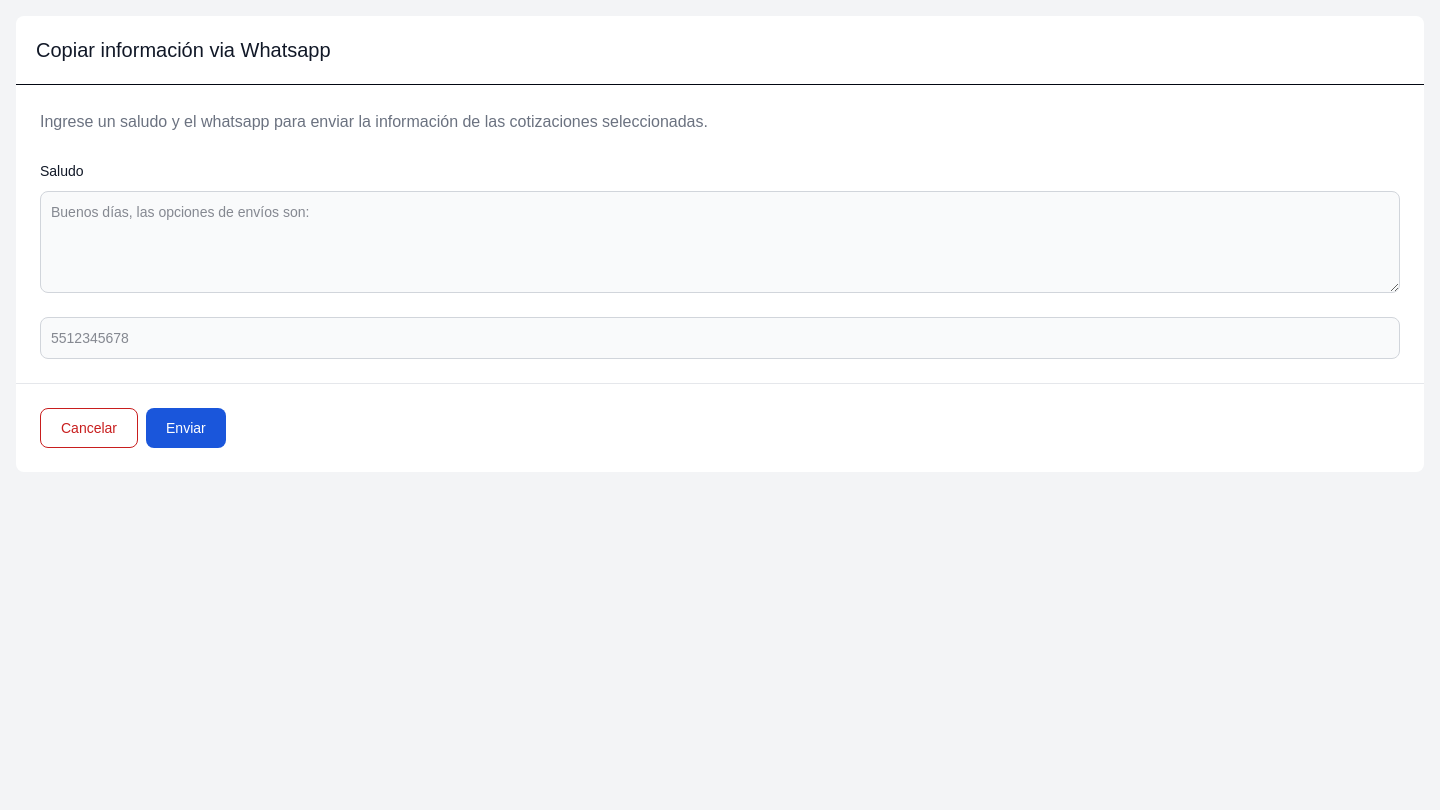
Test: CopyInfoQuotesModal › Form validation errors › Given a user filling the form with invalid data, then show error
This screenshot has width=1440, height=810.
Click the button "Enviar". click: (186, 428)
box: [146,408,226,448]
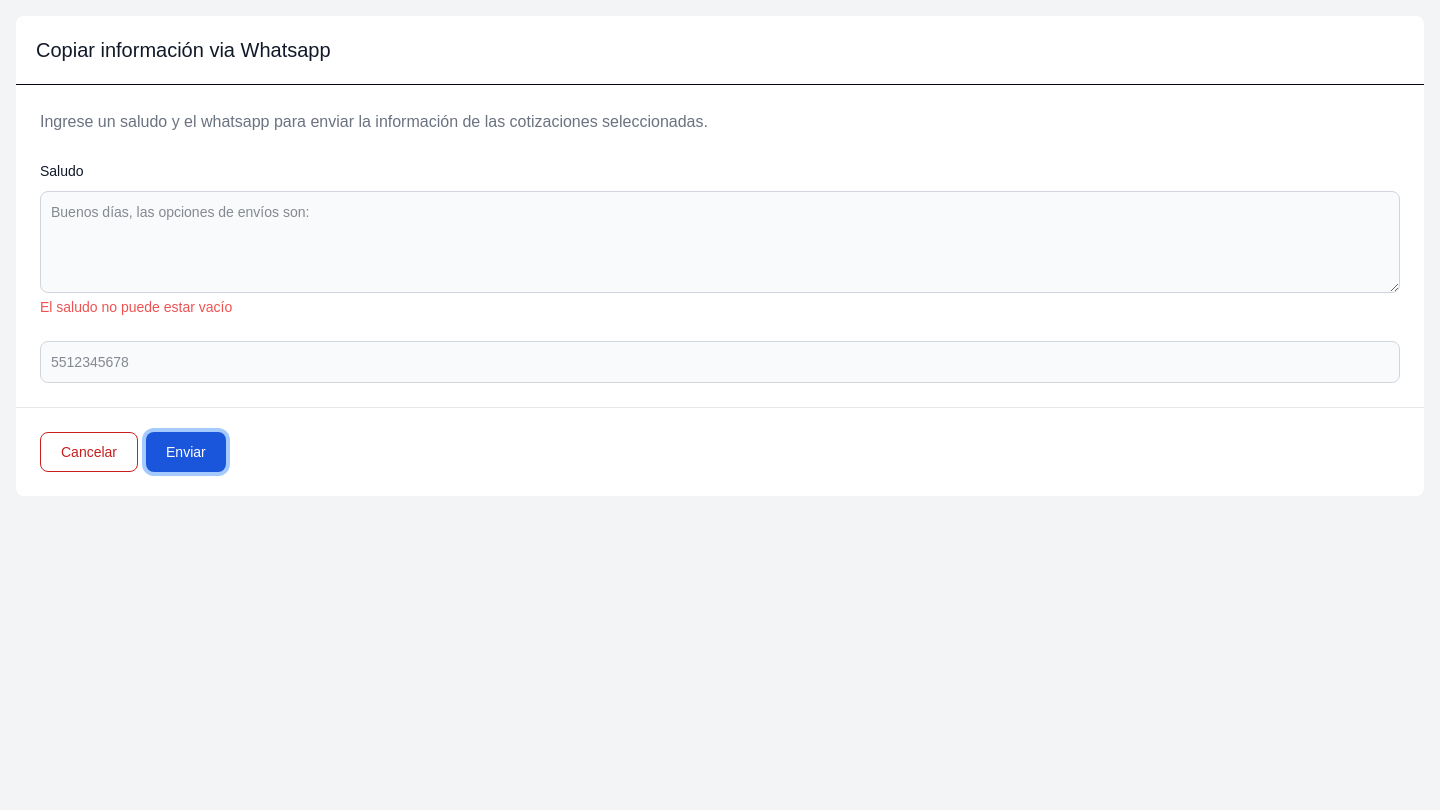
expect the text "El saludo no puede estar vacío" is shown: met, box [40,299,232,315]
// Validate number with less than 10 digits
Type "Hola" into the text box with test id "intro-input". click: (720, 242)
box: [40,191,1400,293]
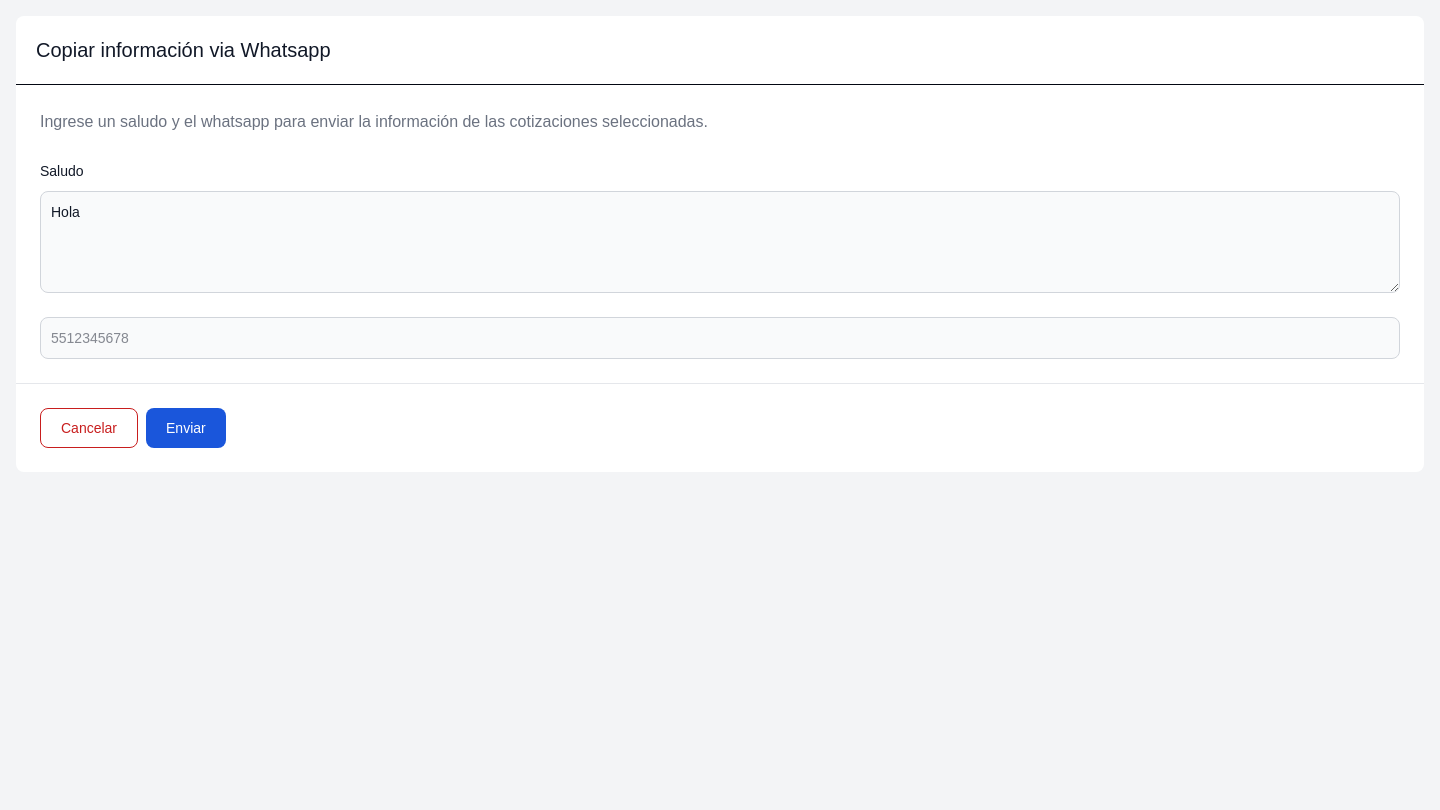
Type "123456789" into the number field with test id "phone-input". click: (720, 338)
box: [40,317,1400,359]
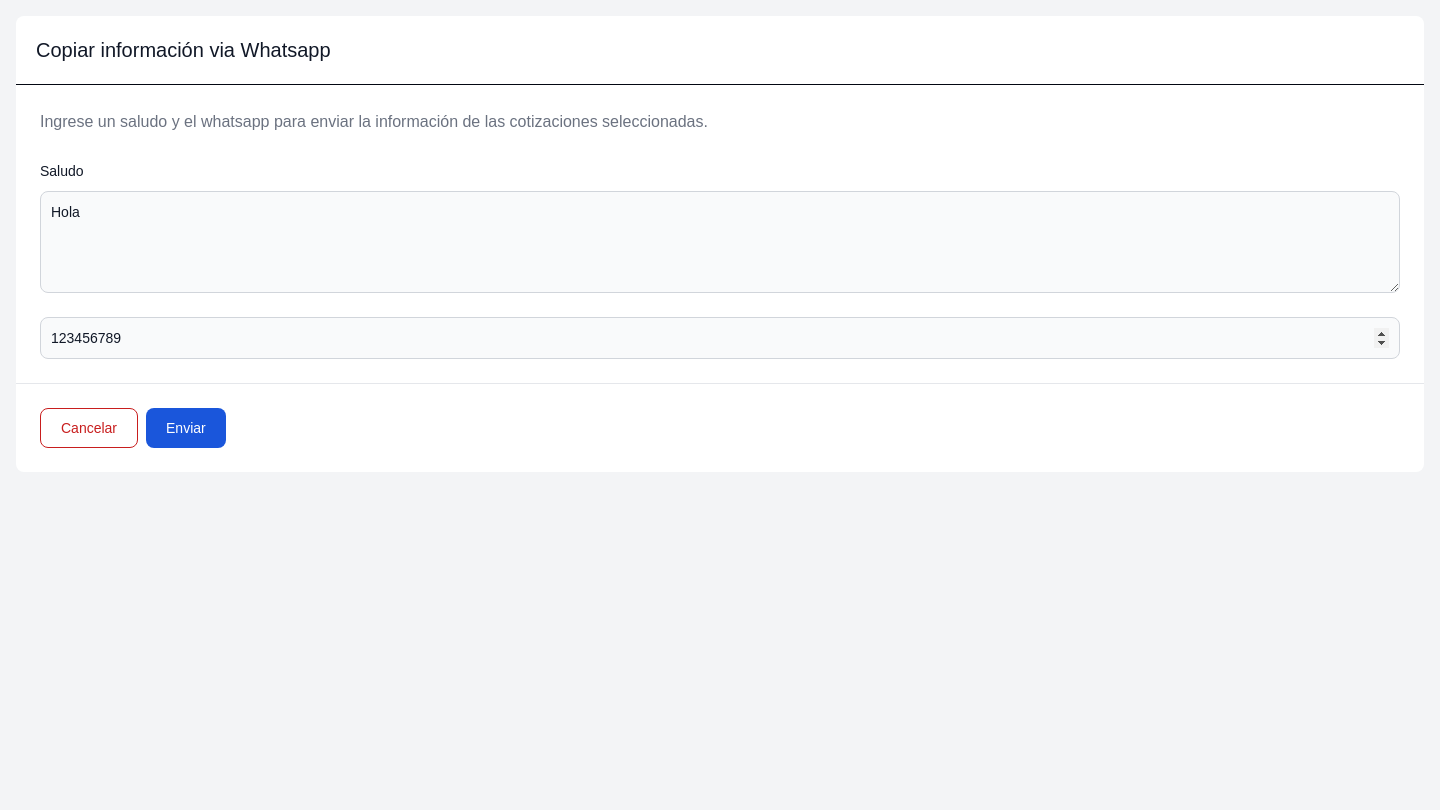
Click the button "Enviar". click: (186, 428)
box: [146,408,226,448]
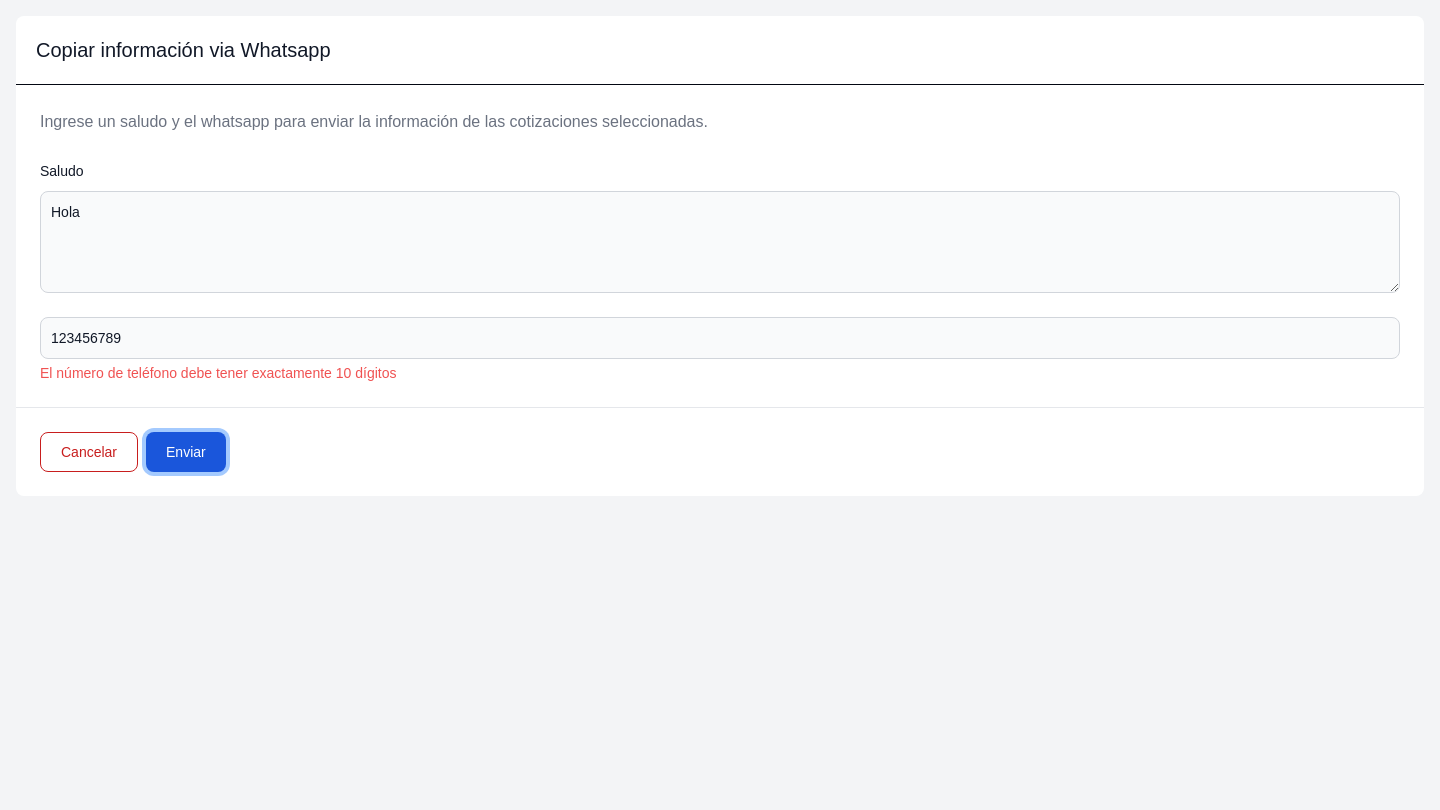
expect the text "El número de teléfono debe tener exactamente 10 dígitos" is shown: met, box [40,365,396,381]
// Validate number with more than 10 digits
Replace the text in the number field with test id "phone-input" with "12345678901". click: (720, 338)
box: [40,317,1400,359]
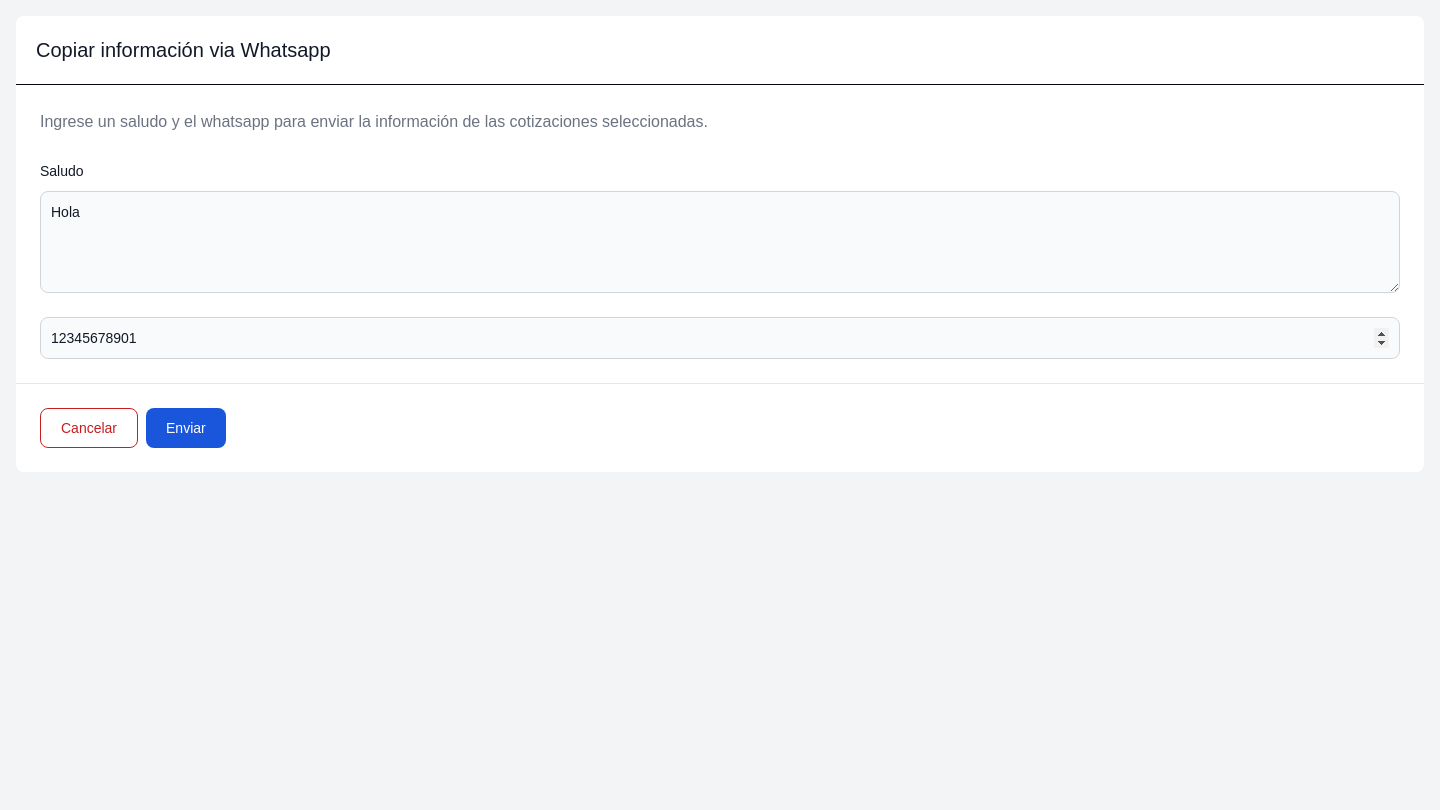
Click the button "Enviar". click: (186, 428)
box: [146,408,226,448]
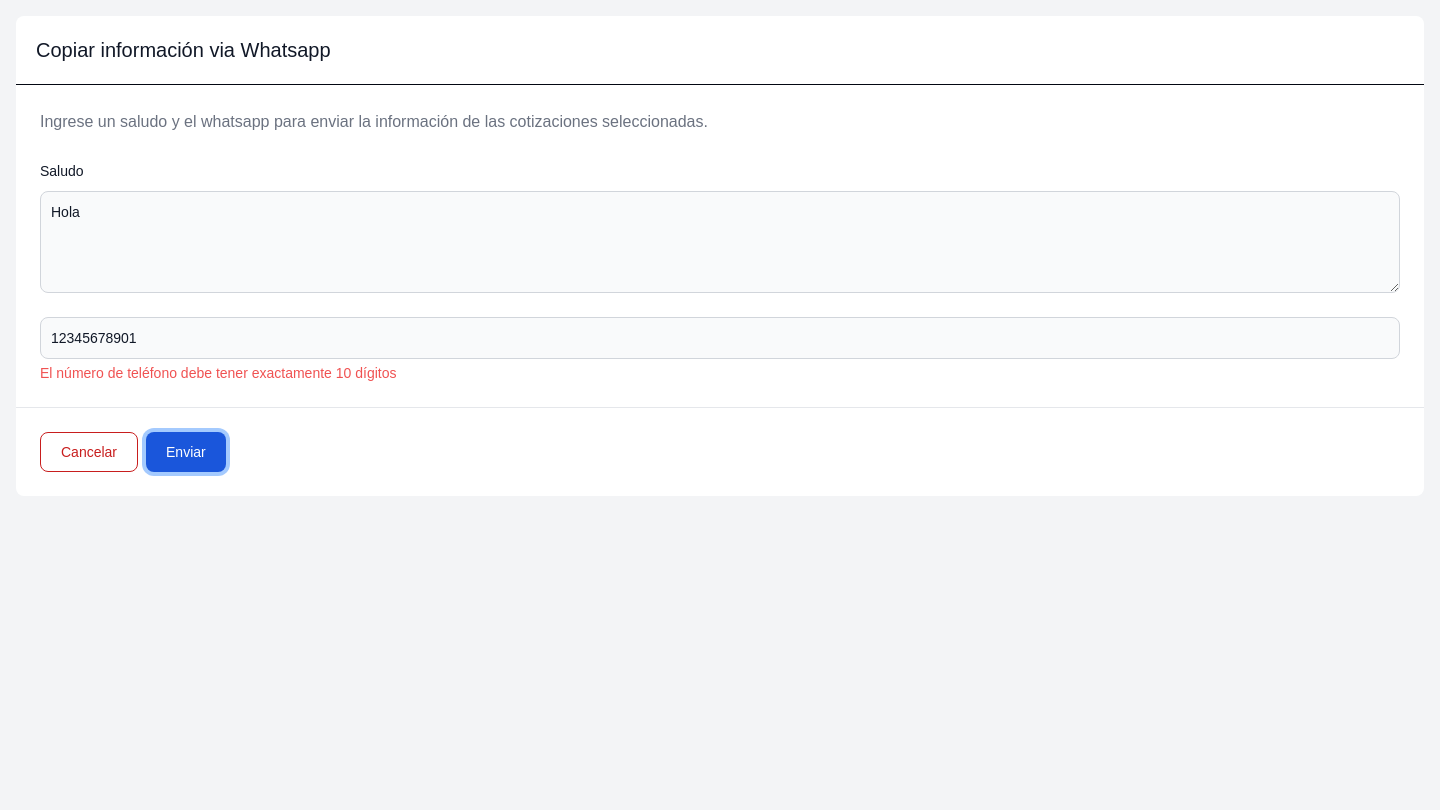
expect the text "El número de teléfono debe tener exactamente 10 dígitos" is shown: met, box [40,365,396,381]
